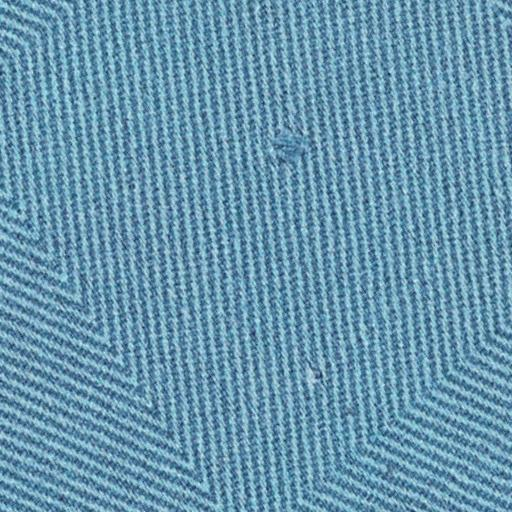knot: (250, 111, 326, 183)
